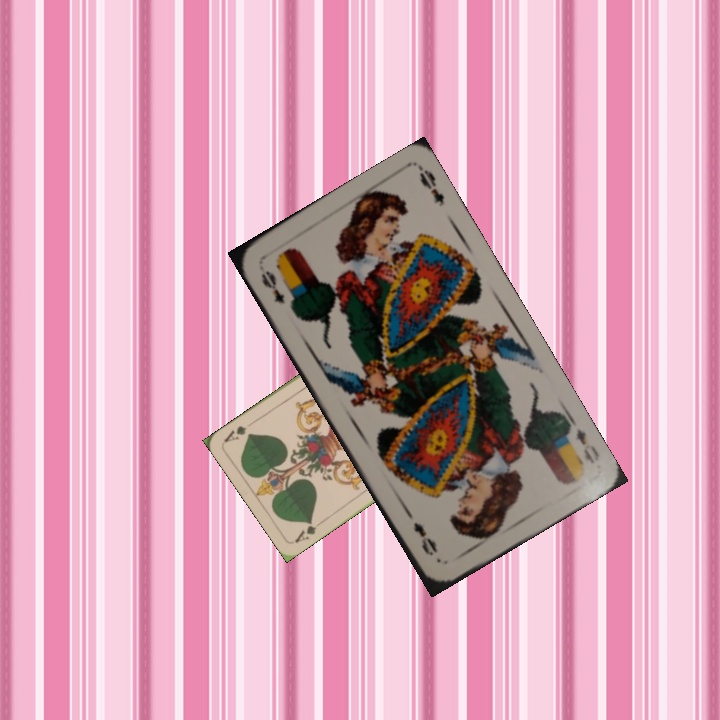EO: (561, 414, 603, 468), (256, 266, 288, 307)
GA: (290, 517, 326, 546)
